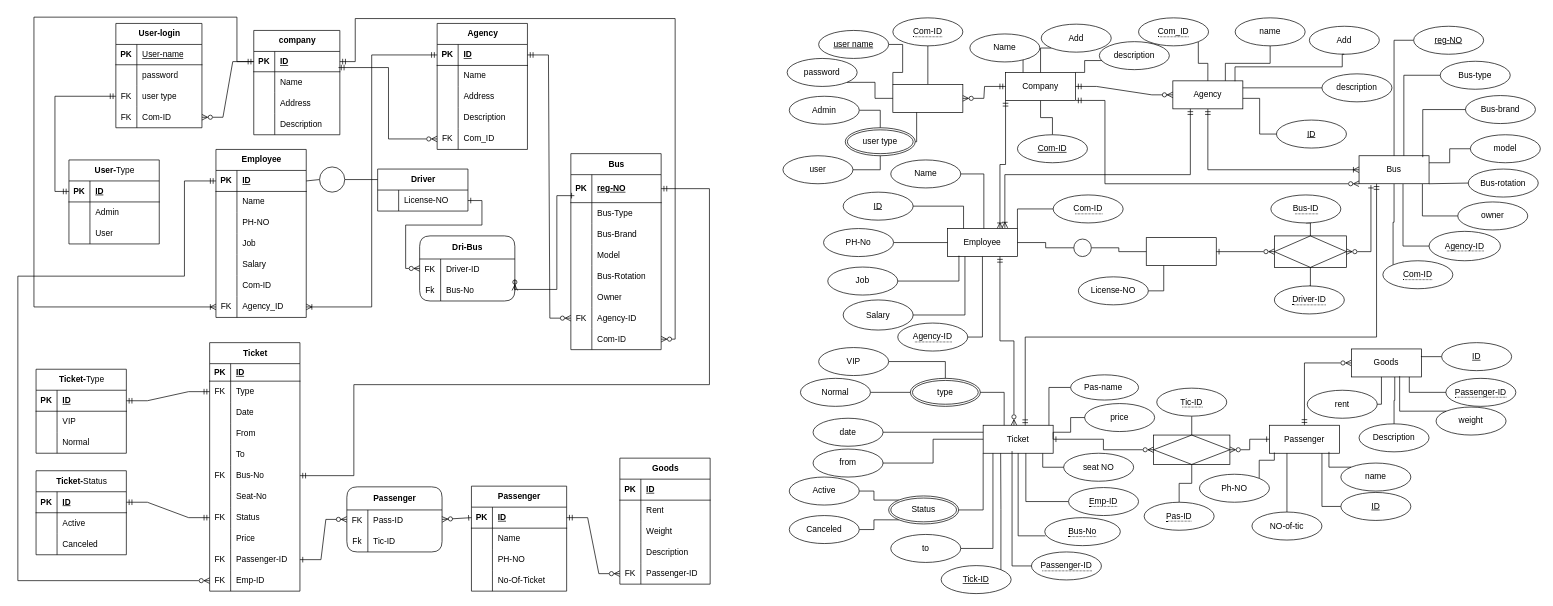
The diagram is 1553 pixels wide and 606 high, and some of its shapes have lost their labels. The shapes that lost their labels are listed below. From the top down, each one's centre as x and y in pixels, then its label:
At (927,98): "User Login".
At (1181,251): "Drivers".
At (1310,251): "Driv-Bus".
At (1191,449): "Tick-pas".
